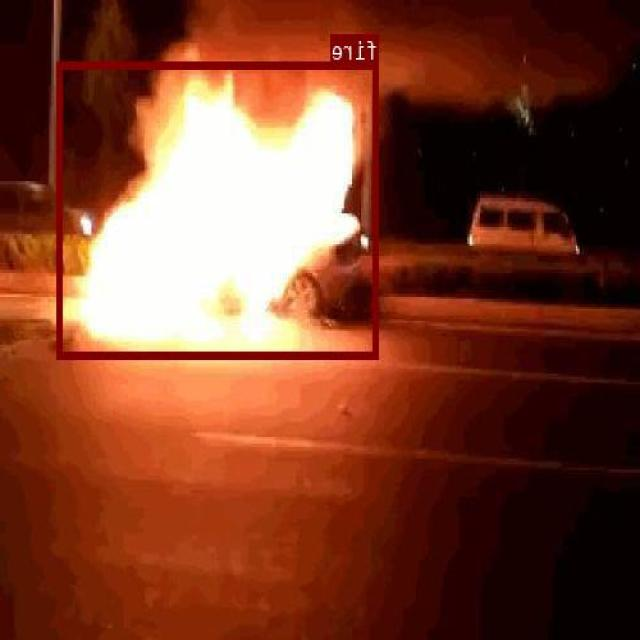fire: (58, 61, 380, 357)
